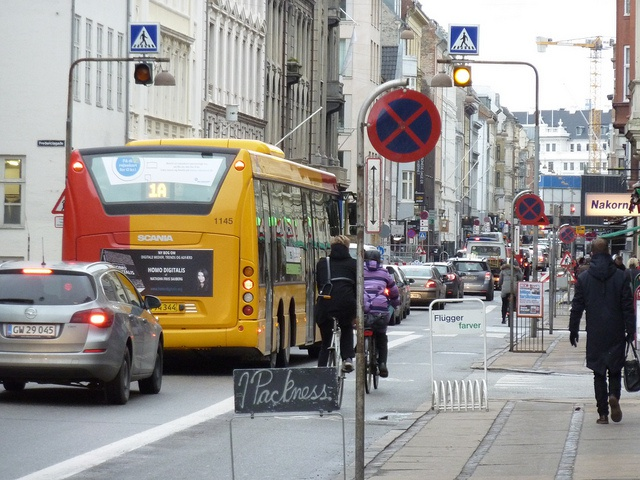non-vehicle: (324, 317, 351, 407), (364, 326, 388, 394)
